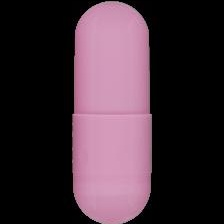0378-8030: (0, 0, 224, 224)
